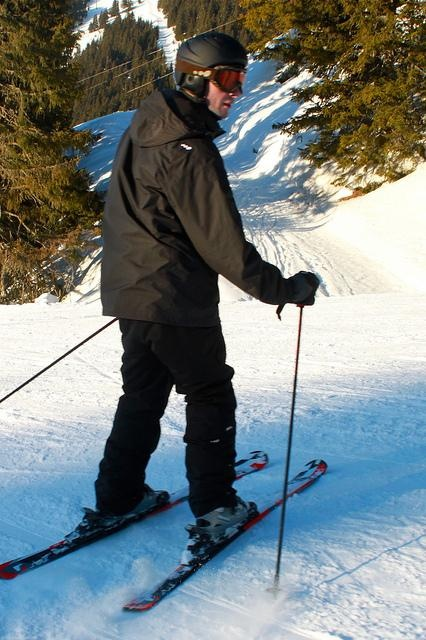person: (57, 34, 319, 549)
